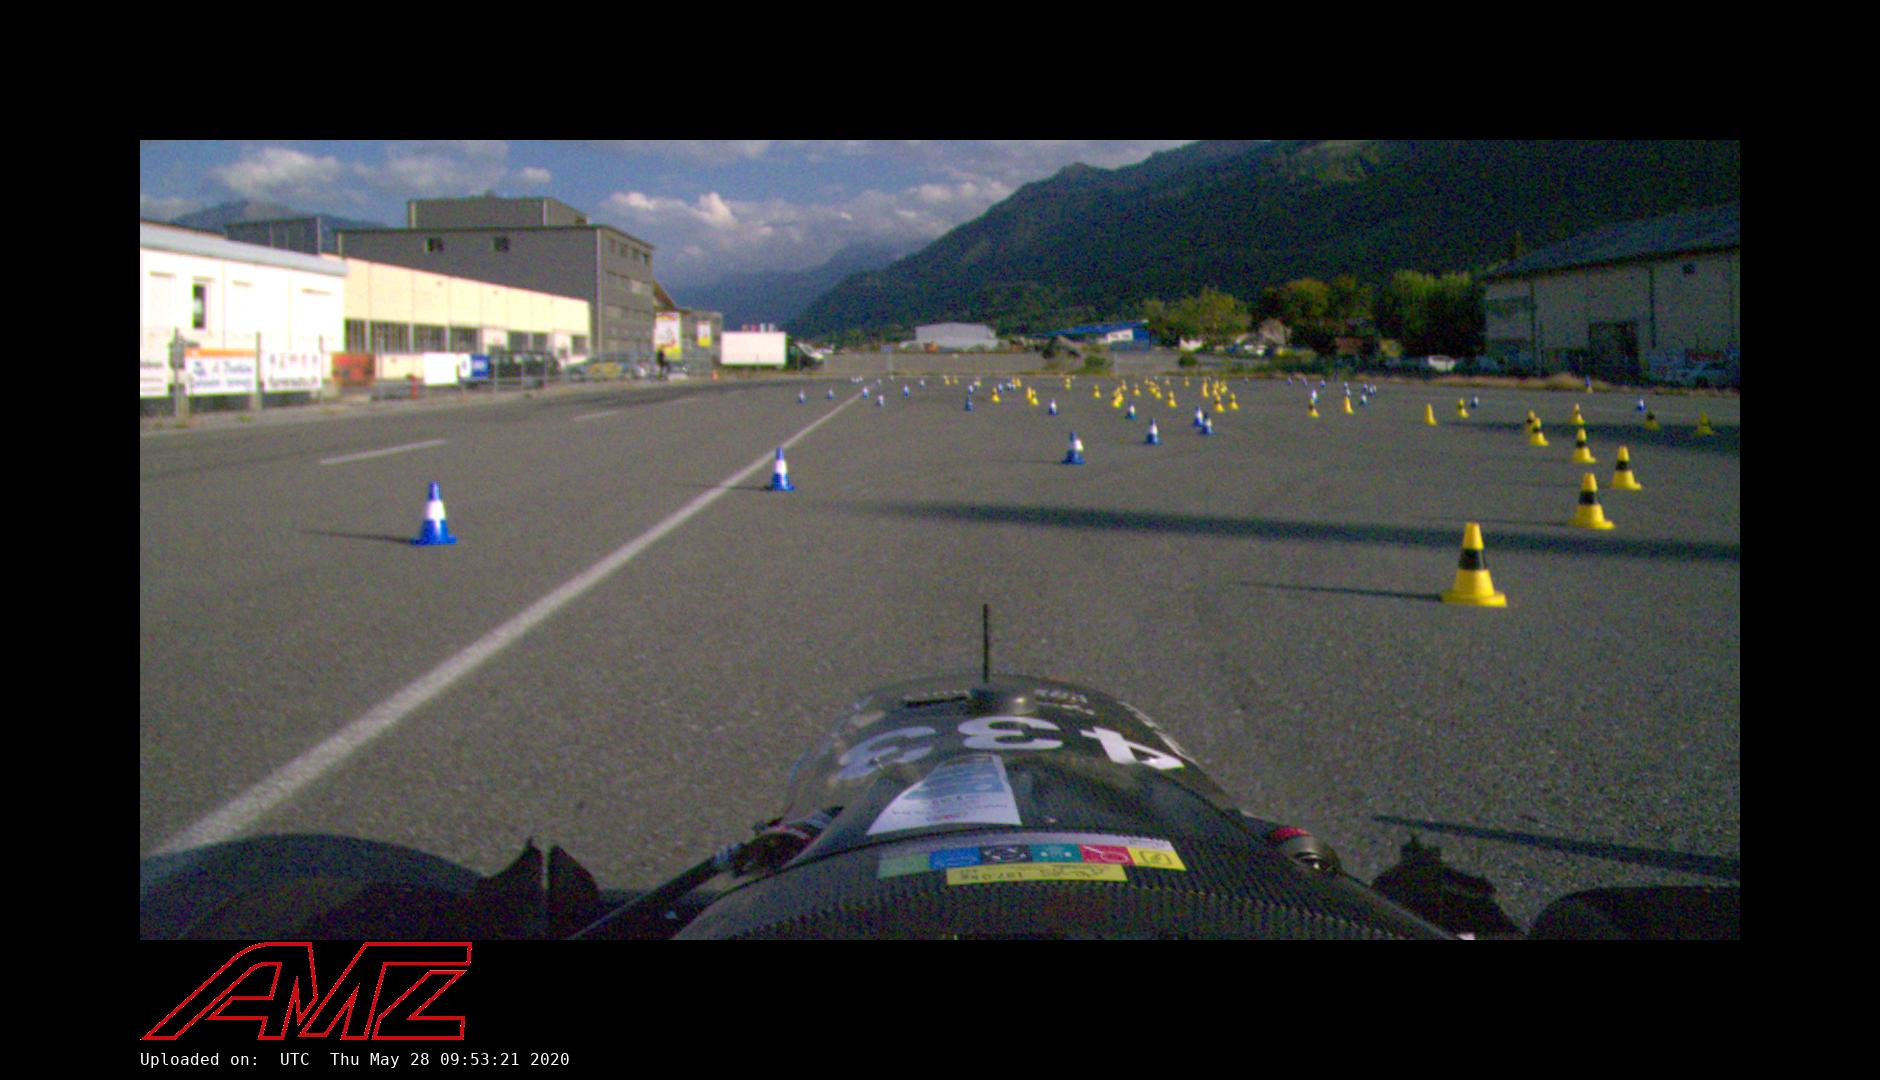blue_cone: (409, 481, 459, 546), (763, 446, 796, 492), (1060, 432, 1085, 466), (1142, 418, 1162, 446), (1199, 413, 1216, 435), (1191, 406, 1206, 427), (1124, 401, 1138, 420), (1635, 396, 1647, 412), (1047, 399, 1059, 415), (1470, 394, 1481, 409), (964, 396, 974, 411), (875, 392, 885, 407), (1309, 388, 1319, 403), (1359, 392, 1368, 406), (797, 391, 806, 403), (901, 384, 910, 395), (826, 387, 834, 399), (967, 383, 975, 394), (862, 386, 869, 397), (1344, 388, 1351, 399), (996, 382, 1003, 392), (1362, 382, 1368, 392), (1371, 384, 1377, 394), (973, 379, 978, 389), (1006, 380, 1011, 390), (919, 379, 925, 387), (1368, 387, 1373, 396), (1011, 383, 1016, 392), (876, 378, 881, 386), (889, 375, 894, 383), (1320, 380, 1325, 387), (1343, 382, 1348, 389), (1303, 379, 1307, 385), (1288, 378, 1291, 385)
yellow_cone: (1439, 521, 1508, 606), (1567, 472, 1613, 531), (1607, 446, 1641, 491), (1570, 429, 1596, 463), (1527, 418, 1548, 446), (1694, 411, 1712, 436), (1523, 410, 1539, 434), (1642, 408, 1659, 430), (1421, 404, 1436, 426), (1569, 404, 1584, 425), (1455, 399, 1468, 418), (1340, 397, 1353, 415), (1306, 399, 1318, 418), (1226, 393, 1238, 409), (1166, 391, 1177, 407), (1213, 396, 1223, 413), (989, 388, 1000, 402), (1028, 391, 1039, 405), (1110, 392, 1119, 408), (1114, 387, 1122, 403), (1025, 386, 1033, 400), (1132, 384, 1140, 396), (1154, 386, 1162, 398), (1093, 385, 1100, 398), (1120, 379, 1127, 391), (1065, 379, 1072, 390), (1586, 384, 1593, 393), (1151, 383, 1157, 393), (944, 376, 950, 385), (952, 375, 958, 384), (1164, 376, 1170, 385), (1010, 377, 1016, 386), (1016, 378, 1021, 387), (1184, 378, 1189, 386), (977, 378, 981, 387)
